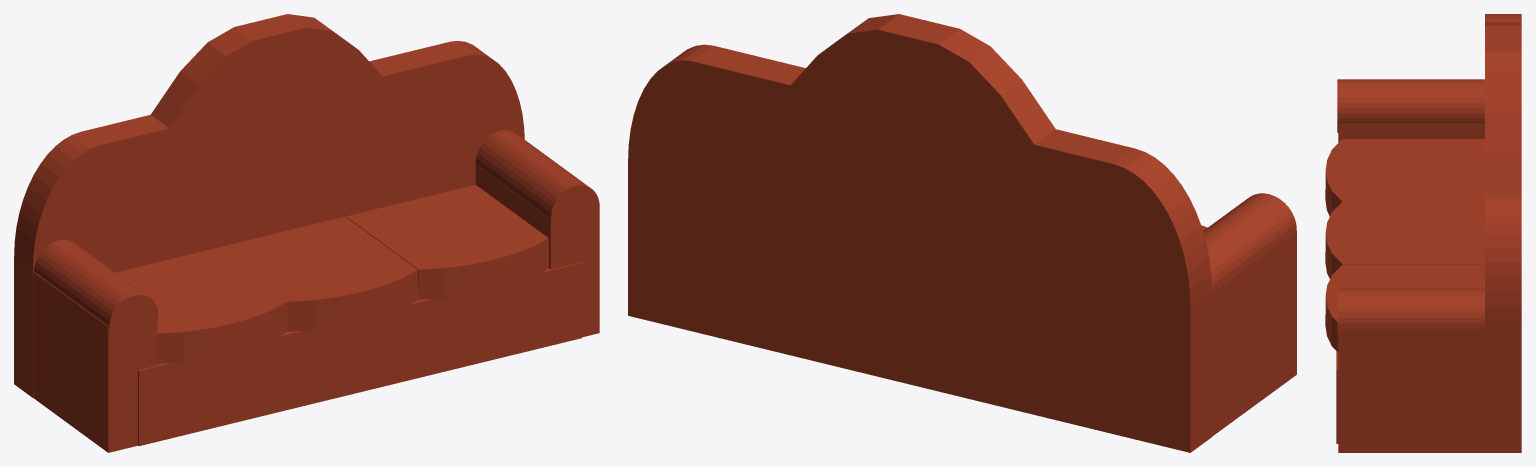
The model's file is SillonGrande.obj.
The picture shows the model from 3 angles, left to right: view 1: azimuth 30°, elevation 25°; view 2: azimuth 150°, elevation 25°; view 3: azimuth 270°, elevation 25°; orthographic projection. The views are drawn at different scales.
Visible parts, largest first — view 1: Cube.025_Cube.028; view 2: Cube.025_Cube.028; view 3: Cube.025_Cube.028.
Boxes of the visible parts, box(x1,y1,x2,y2) form: Cube.025_Cube.028: box(14, 14, 599, 452); Cube.025_Cube.028: box(628, 14, 1296, 452); Cube.025_Cube.028: box(1325, 14, 1521, 452).
Bounding box in the file's own units: 22.61 × 13.34 × 7.98.
Materials: 1 (1 with a texture image).
